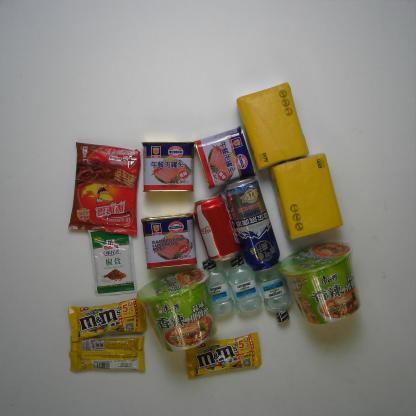Alcohol: (225, 176, 280, 272)
Canned Food: (194, 127, 256, 188), (142, 213, 197, 270), (143, 140, 193, 192)
Chocolate: (67, 296, 146, 342), (185, 333, 262, 379), (70, 333, 146, 374)
Dessert: (68, 142, 139, 236)
Drink: (194, 193, 242, 262)
Instant Noodles: (278, 240, 360, 323), (137, 269, 216, 352)
Personal Hygiene: (257, 262, 292, 324), (228, 256, 262, 316), (204, 257, 235, 317)
Seasoner: (87, 223, 138, 295)
Tissue: (269, 153, 344, 240), (236, 82, 308, 170)
